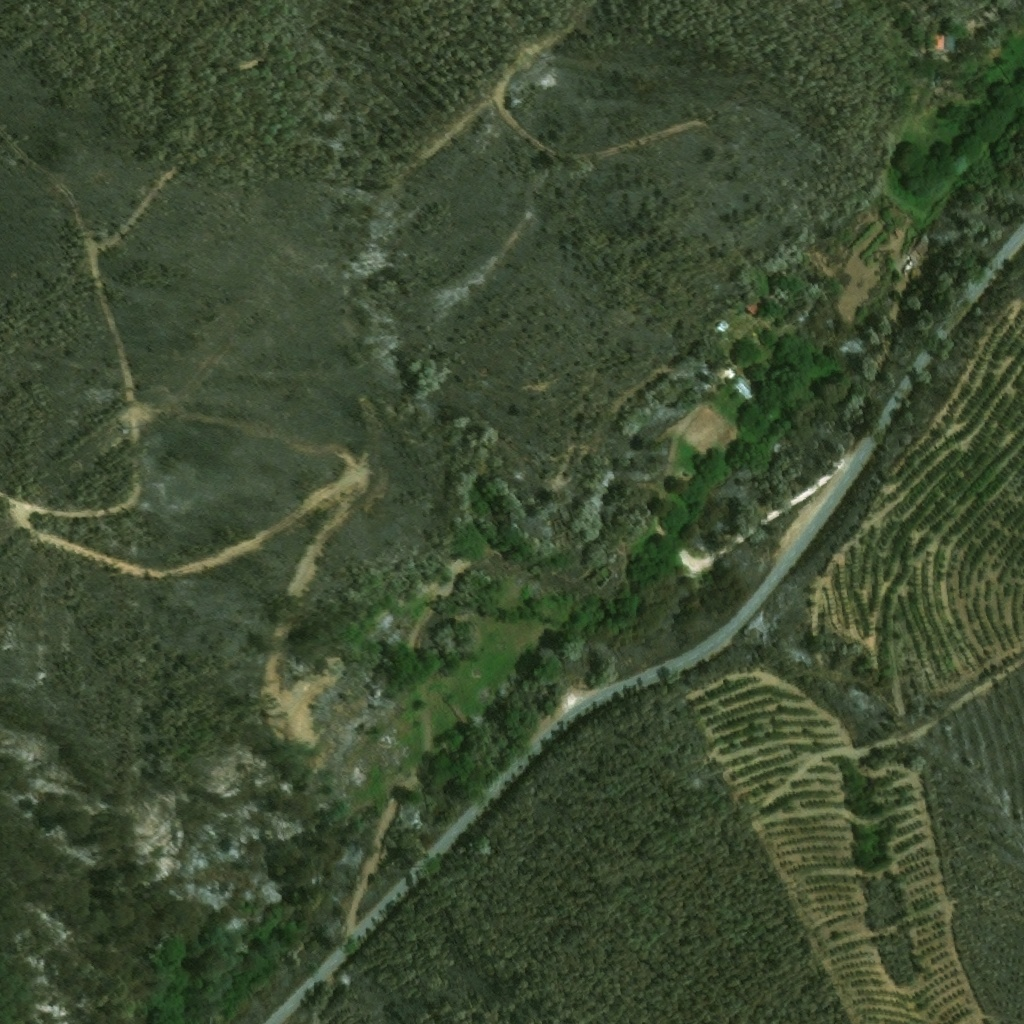0 no-damage: (905, 237, 932, 267), (730, 375, 758, 403), (933, 29, 957, 57), (743, 298, 764, 318), (713, 319, 729, 334)
4 un-classified: (760, 294, 778, 304)
